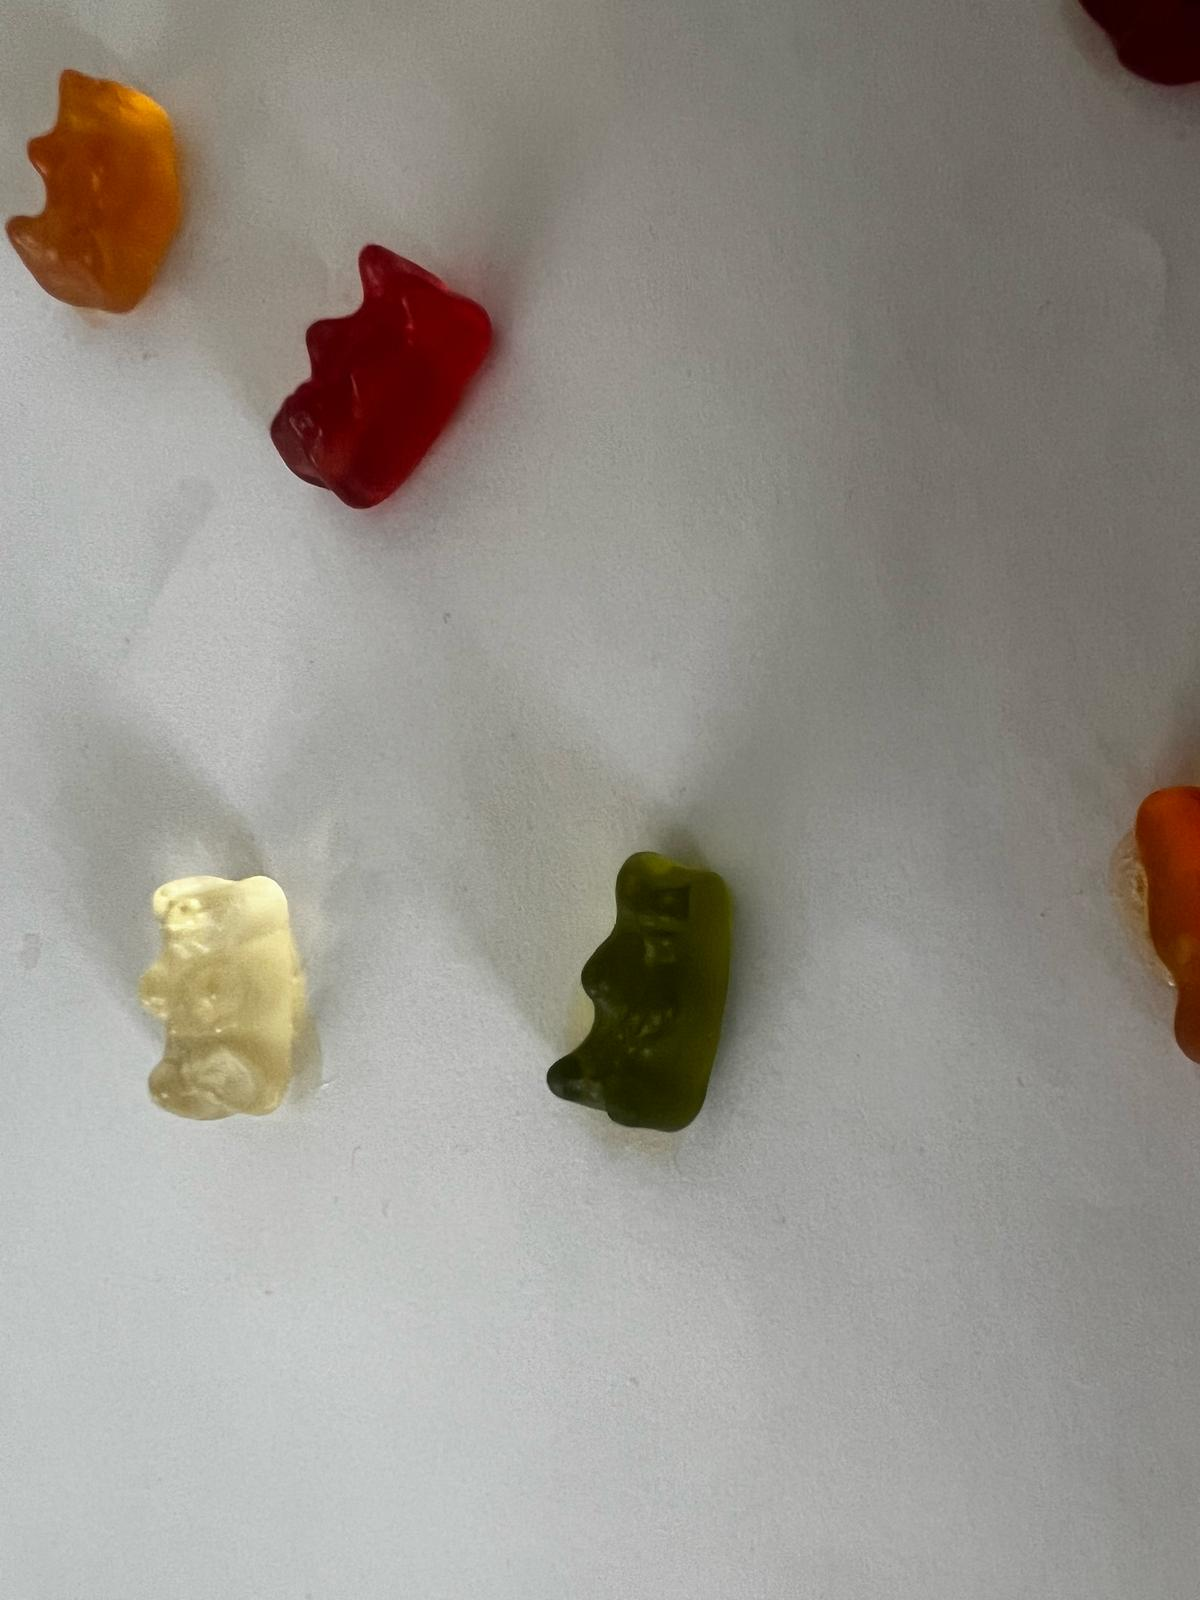gummybear: (258, 207, 513, 532), (528, 839, 758, 1144), (110, 863, 343, 1133), (6, 55, 216, 321)
